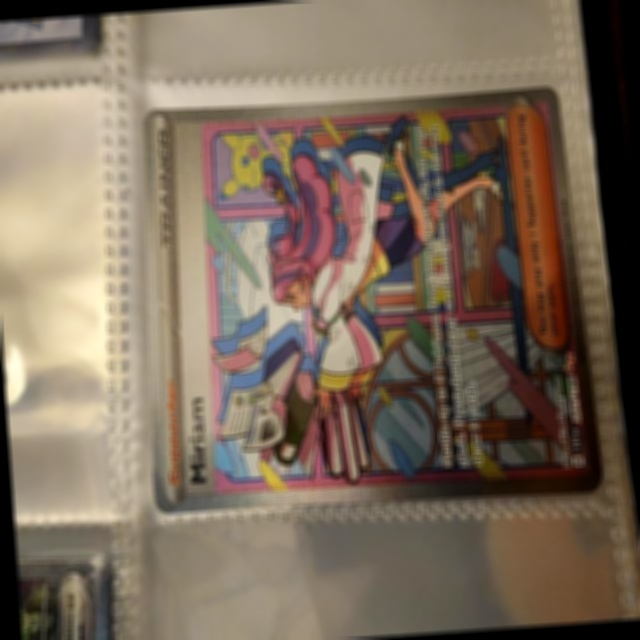card: (141, 84, 602, 515)
